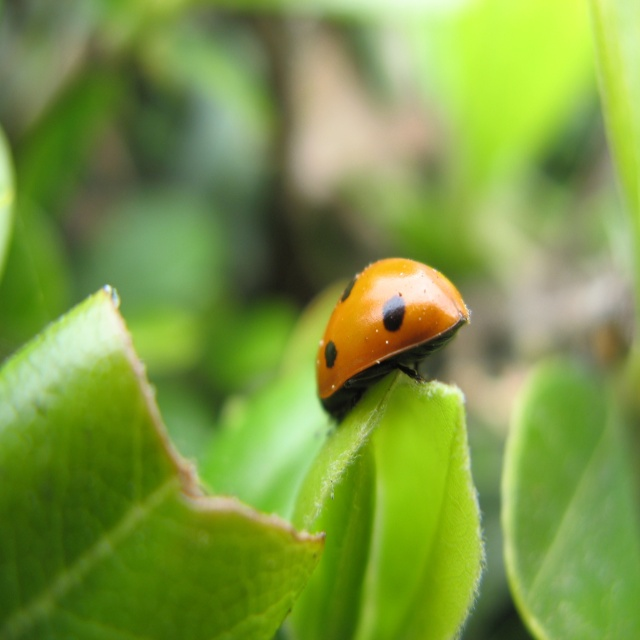Ladybug: (317, 261, 474, 419)
